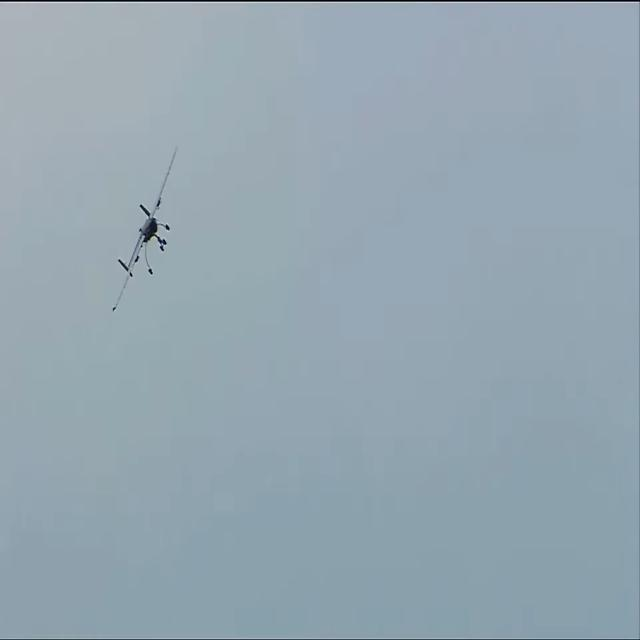iha: (145, 143, 147, 313)
